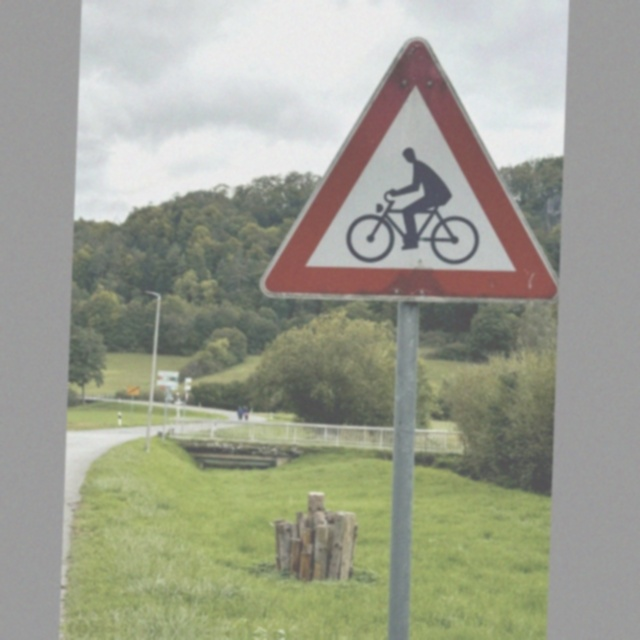Cycle_Crossing: (259, 33, 558, 303)
